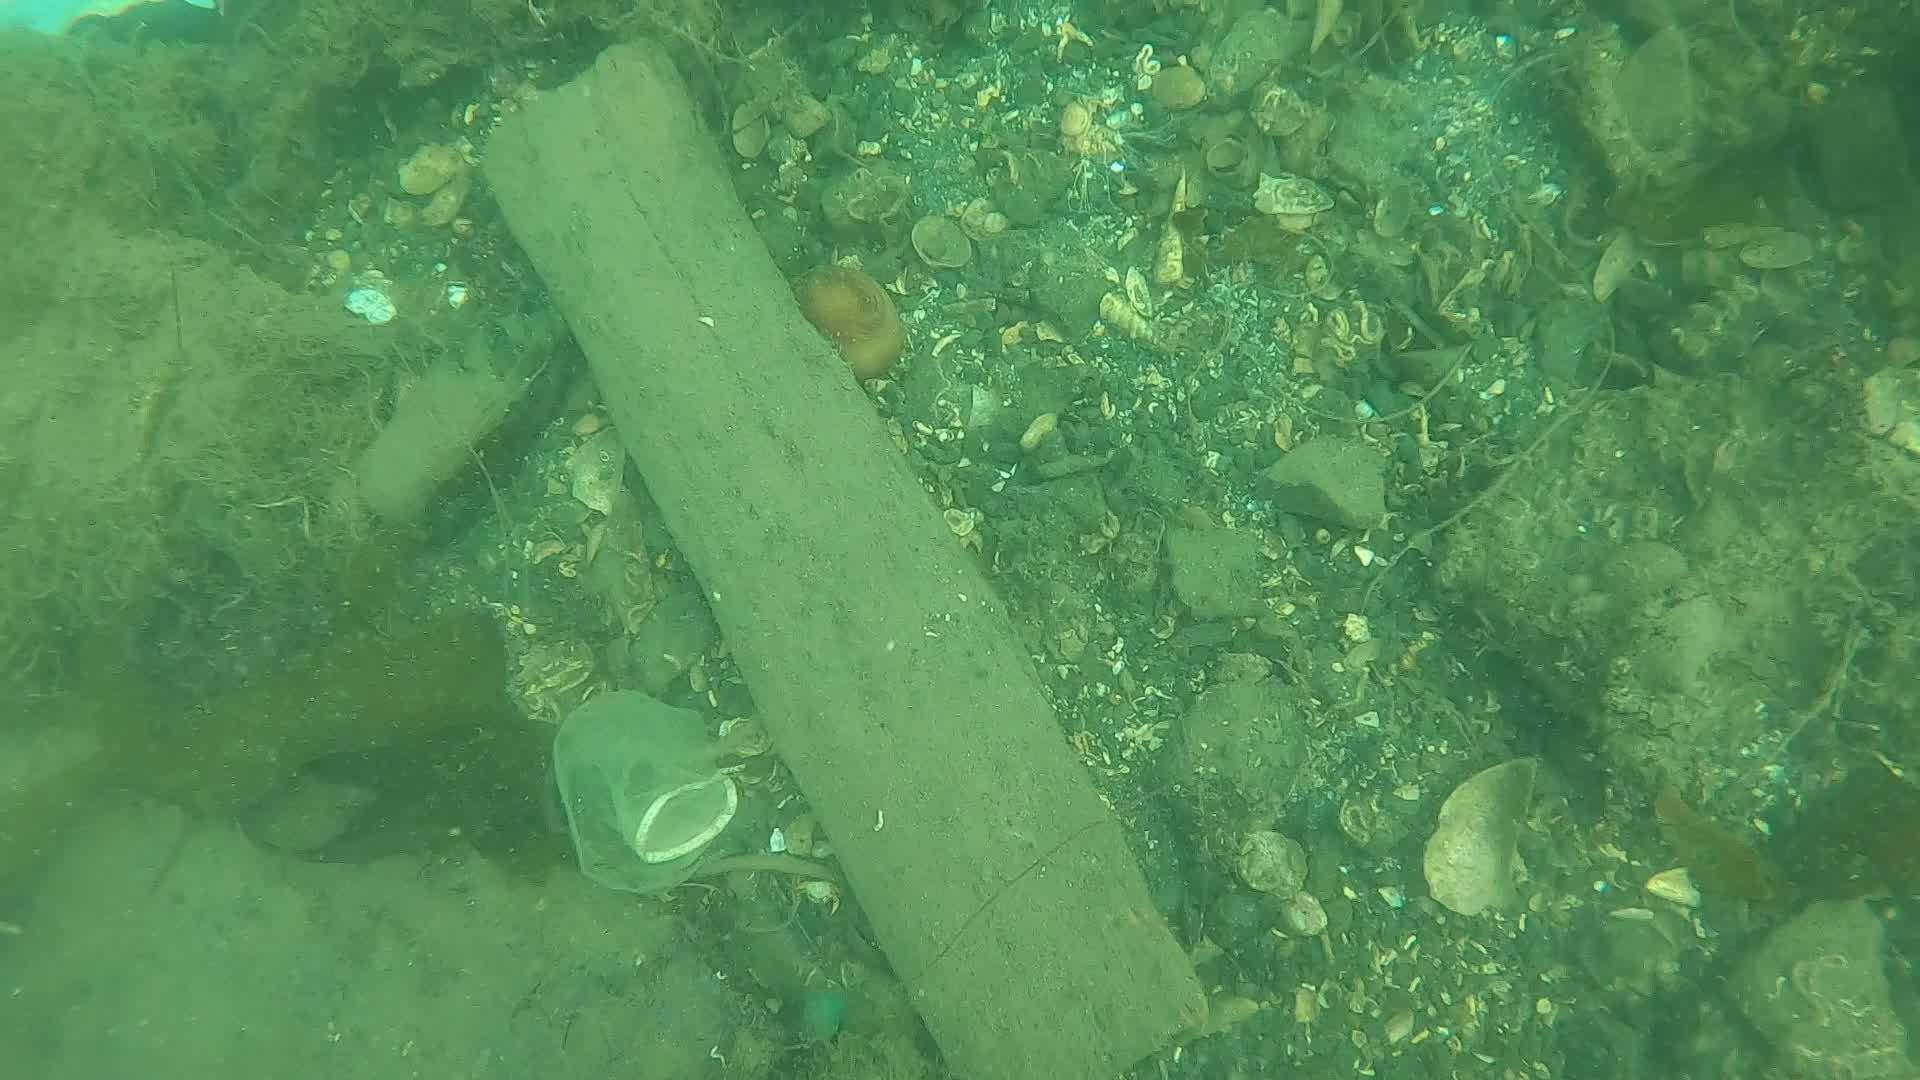wood: (477, 37, 1215, 1080)
